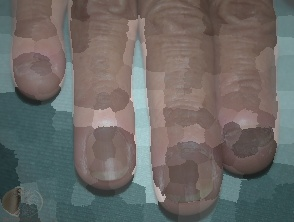Nail_psoriasis: (151, 117, 240, 197), (219, 108, 280, 166), (9, 48, 63, 87)
